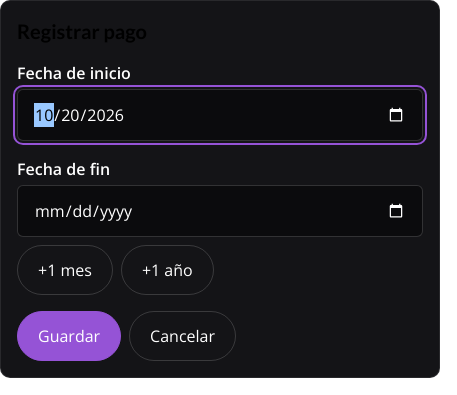
Test: PeriodForm › recording a payment › the shortcuts for the end › "+1 año" fills the end a year after the start, the last day included
Click the button "+1 año". click: (167, 270)
box: [121,245,214,295]
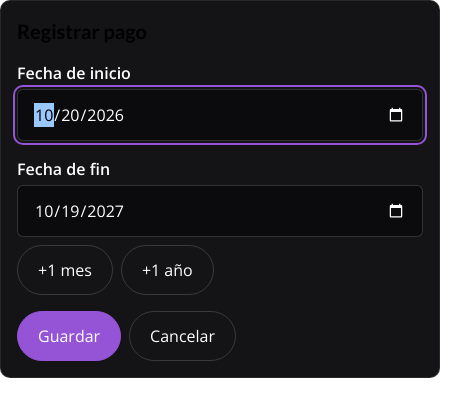
Expected: the date field labelled "Fecha de fin" holds "2027-10-19", [17,185,423,237]
